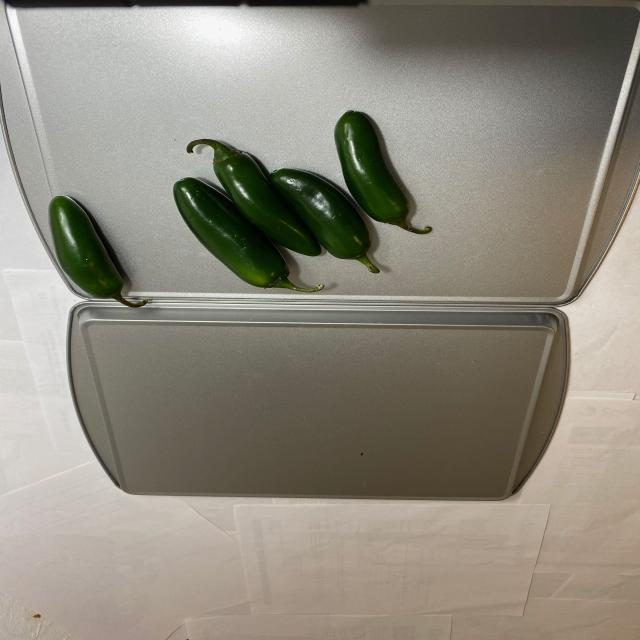chilli: (53, 106, 443, 312)
